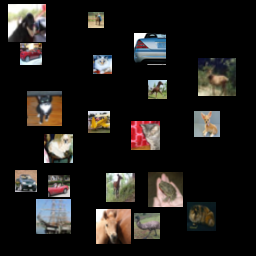airplane: (88, 111, 110, 133)
automobile: (134, 33, 166, 65), (15, 170, 37, 192), (20, 43, 42, 65), (48, 175, 70, 197)
bird: (134, 213, 160, 239)
cat: (27, 91, 62, 126), (131, 121, 160, 150), (187, 202, 216, 231), (93, 55, 112, 74)
deer: (198, 58, 236, 96), (106, 173, 135, 202)
dog: (8, 4, 46, 42), (44, 134, 73, 163), (194, 111, 220, 137)
frog: (148, 172, 183, 207)
ship: (36, 199, 71, 234)
